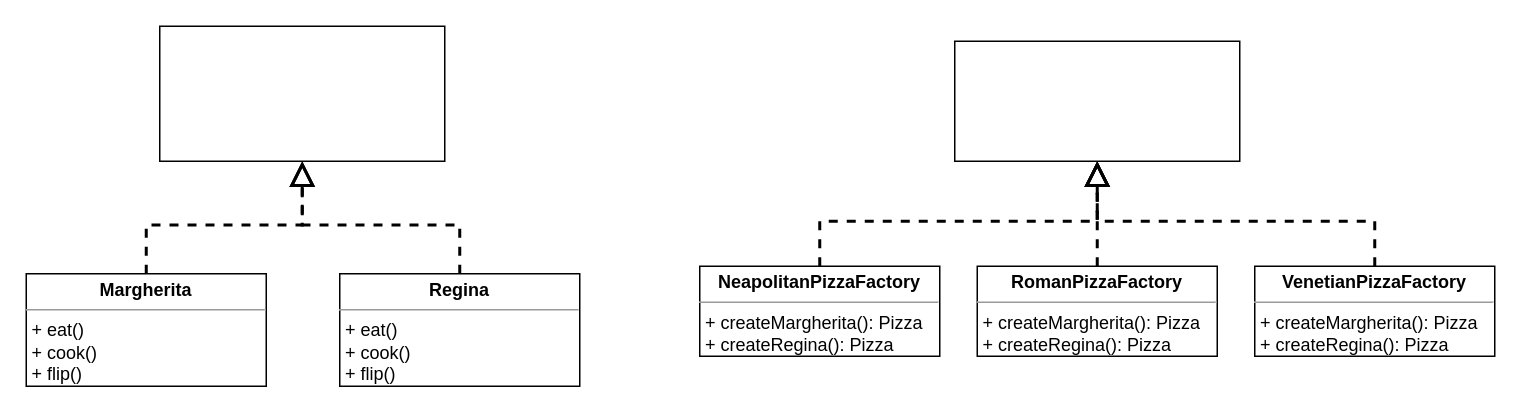
Image size: 1521x413. Some labels were removed from this diagram. Each missing label, with the centre of its shape:
"<<Interface>> Pizza + eat() + cook() + flip()" belongs at point (301, 93).
"<<Interface>> PizzaFactory + createMargherita(): Pizza + createRegina(): Pizza" belongs at point (1096, 100).
